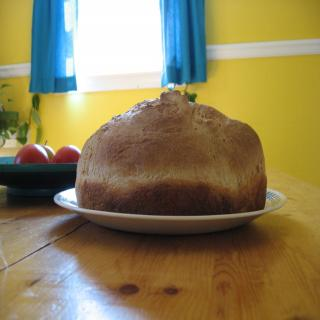Bread: (66, 82, 264, 235)
